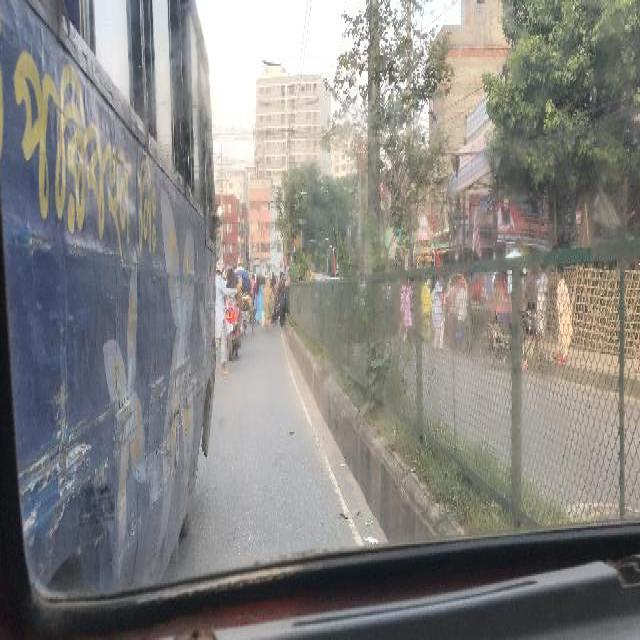bike: (225, 271, 238, 360)
vehicle: (239, 268, 256, 339)
